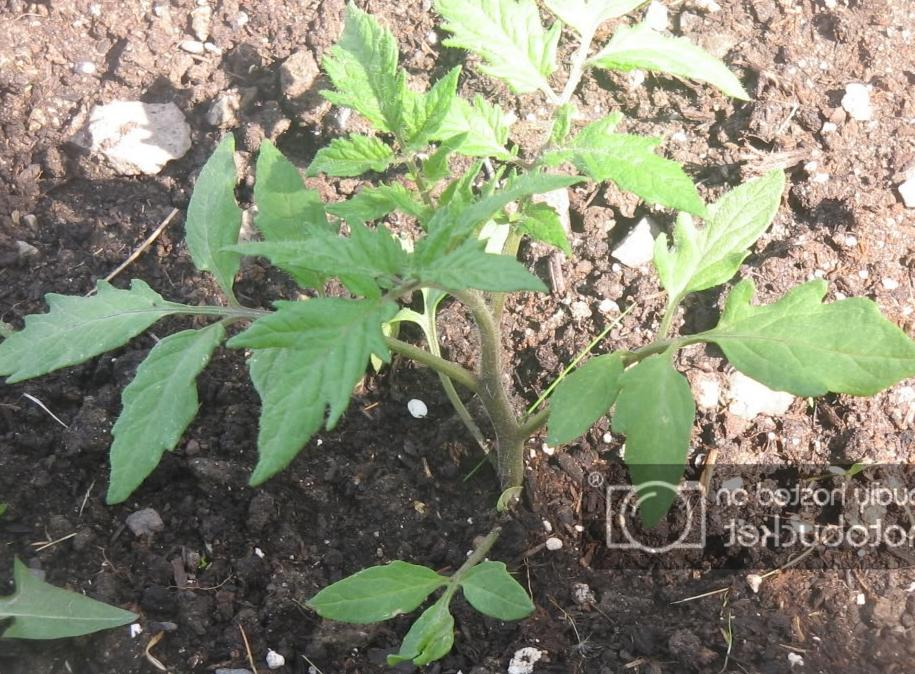Tomato leaf: (236, 291, 387, 496), (711, 282, 915, 413), (600, 348, 715, 536), (0, 273, 181, 391), (654, 159, 799, 305), (572, 120, 721, 225), (422, 0, 570, 96), (321, 11, 409, 149), (223, 224, 406, 290), (174, 128, 240, 301), (299, 552, 451, 623), (539, 354, 627, 465), (416, 91, 525, 164), (403, 249, 535, 309), (447, 549, 551, 618), (400, 70, 469, 158), (391, 599, 460, 666), (303, 139, 402, 181)
